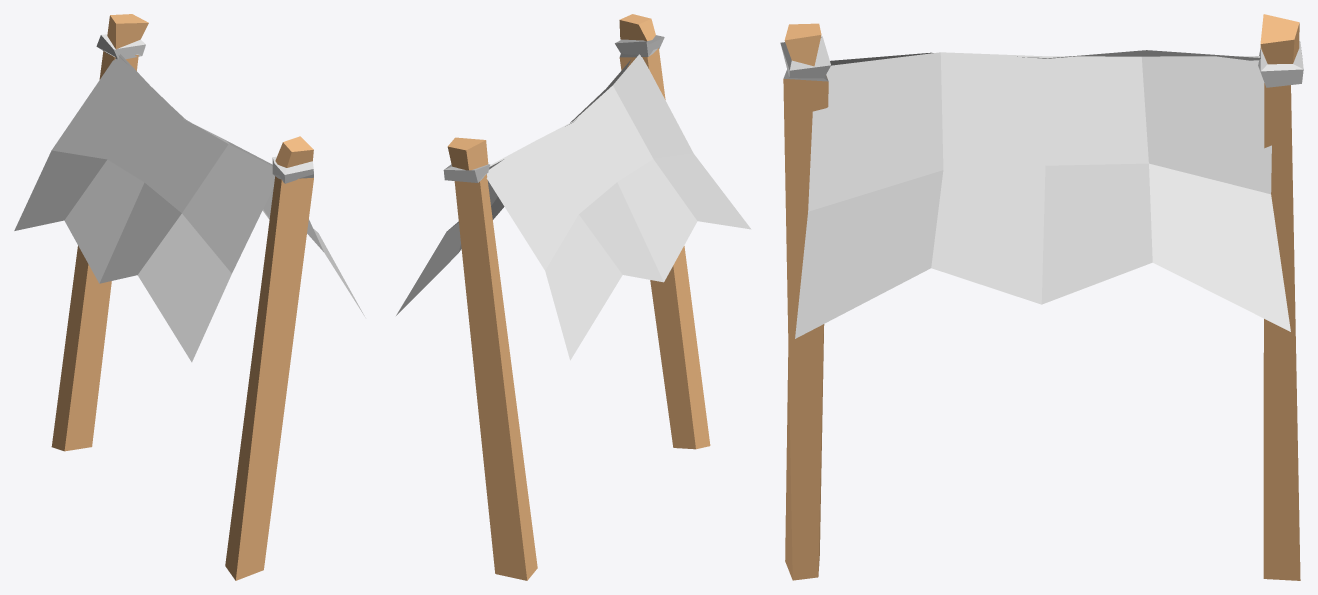
The model's file is cc_tent_stand1.fbx.
3 views of the same model, side by side, from view 1: azimuth 30°, elevation 25°; view 2: azimuth 150°, elevation 25°; view 3: azimuth 270°, elevation 25° (orthographic). The views are drawn at different scales.
Parts seen in each view (by area): view 1: Plane; view 2: Plane; view 3: Plane.
Boxes of the visible parts, bbox=[...] form: Plane: bbox=[14, 14, 365, 580]; Plane: bbox=[396, 14, 751, 580]; Plane: bbox=[780, 14, 1303, 580].
Bounding box in the file's own units: 280 × 622 × 506.
